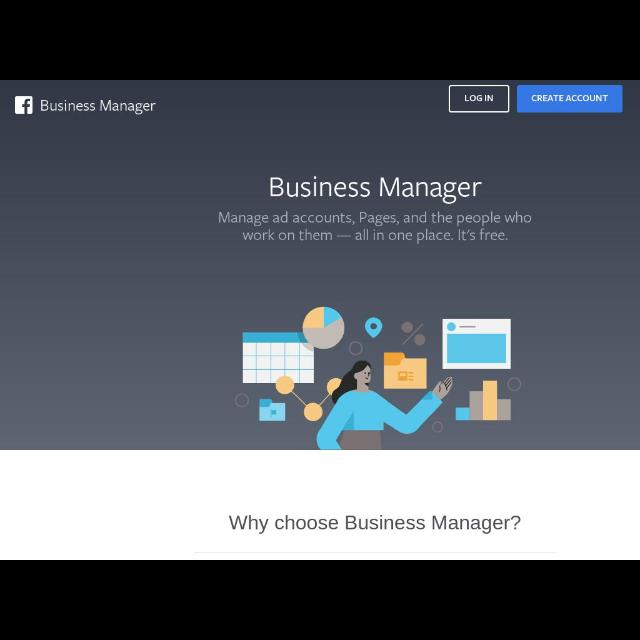backgroundimage: (1, 80, 639, 450)
icon: (15, 96, 33, 114)
text: (270, 176, 482, 204), (230, 516, 520, 534), (219, 212, 531, 226), (244, 228, 508, 244), (42, 100, 156, 114), (532, 95, 608, 101), (465, 95, 493, 102)
textbutton: (518, 86, 622, 112), (450, 86, 510, 112)
